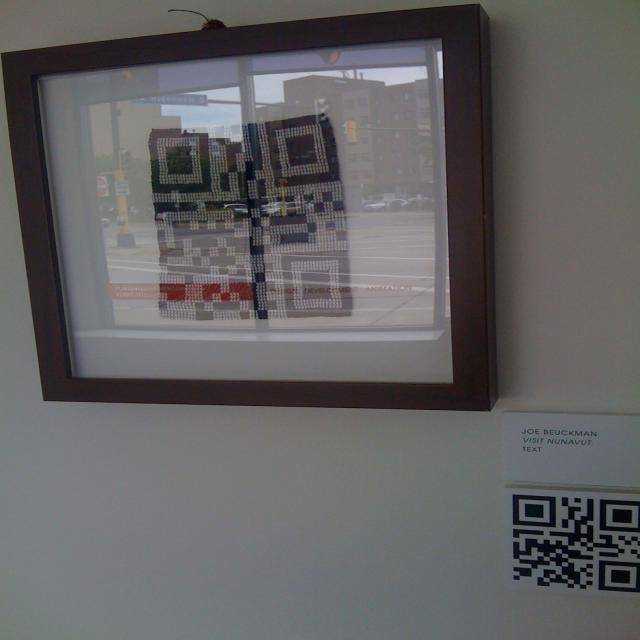qrcode: (149, 115, 355, 322), (513, 495, 640, 593)
